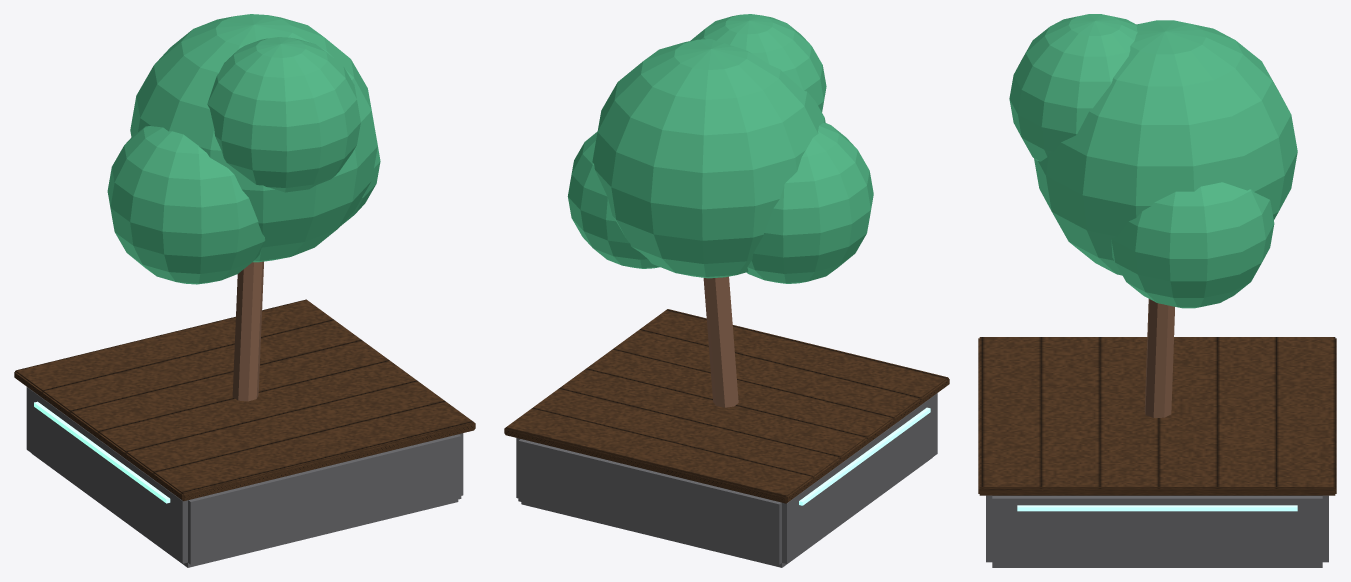
Rendered from roof_planter.glb.
The picture shows the model from 3 angles, left to right: view 1: azimuth 30°, elevation 25°; view 2: azimuth 150°, elevation 25°; view 3: azimuth 270°, elevation 25°; orthographic projection. The views are drawn at different scales.
Visible parts, largest first — view 1: Leaves, Planter rim, Planter, Soil, Planter glow; view 2: Leaves, Planter rim, Planter, Soil, Planter glow; view 3: Leaves, Planter rim, Planter, Soil, Planter glow.
Boxes of the visible parts, bbox=[...] form: Leaves: bbox=[107, 14, 380, 284]; Planter rim: bbox=[14, 299, 475, 501]; Planter: bbox=[26, 387, 463, 567]; Soil: bbox=[232, 261, 263, 401]; Planter glow: bbox=[34, 401, 170, 503]; Leaves: bbox=[567, 14, 873, 283]; Planter rim: bbox=[504, 309, 949, 503]; Planter: bbox=[516, 393, 937, 567]; Soil: bbox=[703, 276, 738, 407]; Planter glow: bbox=[799, 407, 930, 505]; Leaves: bbox=[1009, 14, 1297, 308]; Planter rim: bbox=[978, 337, 1336, 495]; Planter: bbox=[986, 495, 1328, 567]; Soil: bbox=[1144, 299, 1174, 417]; Planter glow: bbox=[1017, 505, 1297, 511].
Size of the model in its own units: 2.3 by 3.4 by 2.3.
Materials: 5 (1 with a texture image).
